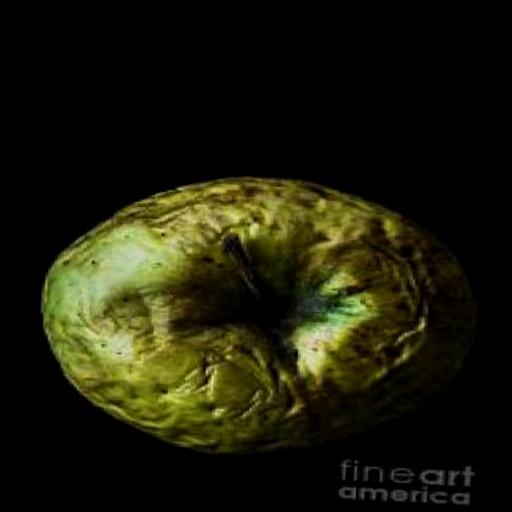biodegradable: (27, 160, 479, 464)
